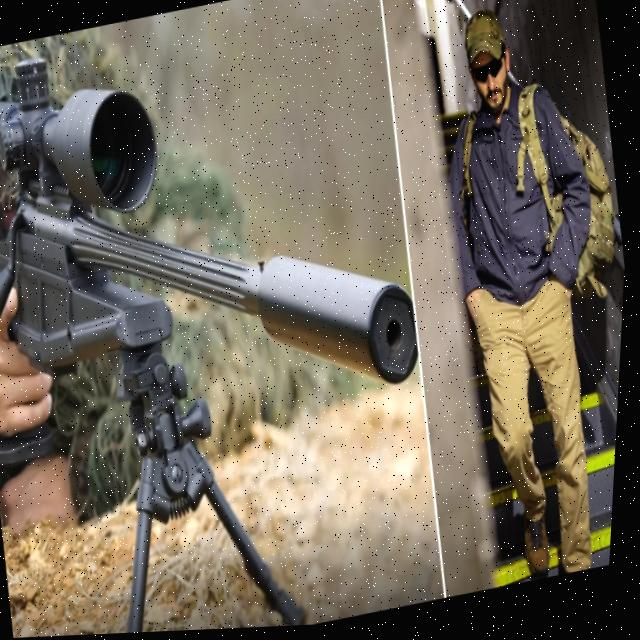firearm: (0, 0, 476, 640)
